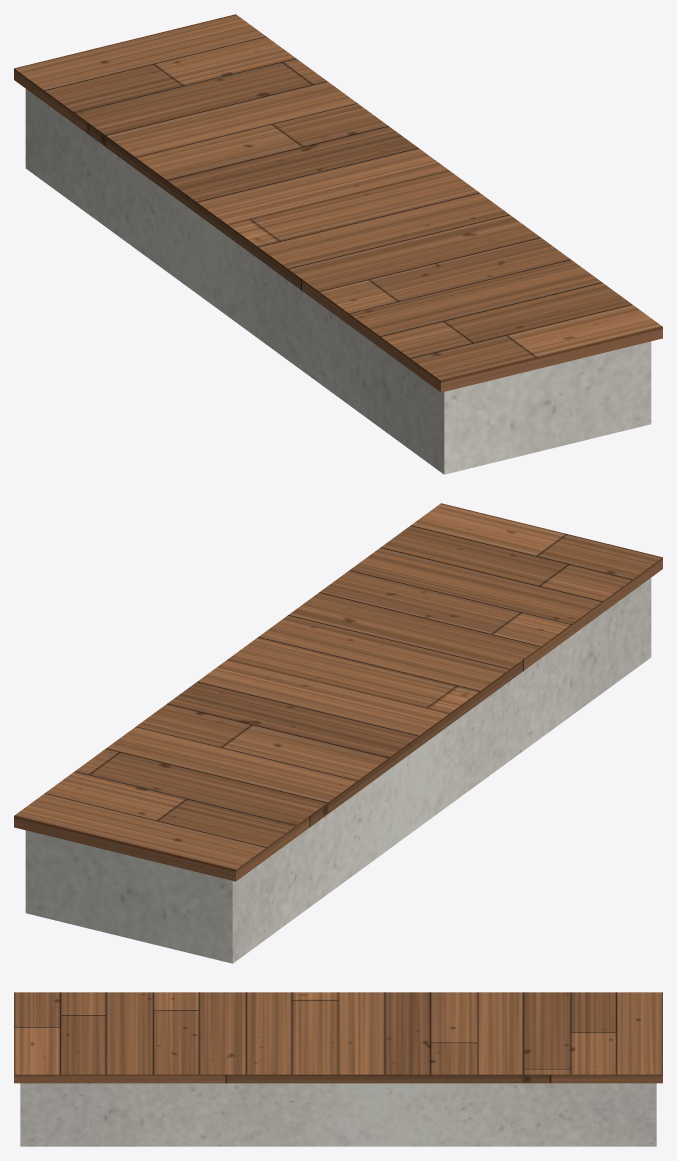
Rendered from floor_tile_hole_2.glb.
3 renders of one model, top to bottom at view 1: azimuth 30°, elevation 25°; view 2: azimuth 150°, elevation 25°; view 3: azimuth 270°, elevation 25°, orthographic. The views are drawn at different scales.
Visible parts, largest first — view 1: floor_tile_hole_2_floor, floor_tile_hole_2_plaster; view 2: floor_tile_hole_2_floor, floor_tile_hole_2_plaster; view 3: floor_tile_hole_2_floor, floor_tile_hole_2_plaster.
Boxes of the visible parts, x1=… form: floor_tile_hole_2_floor: x1=14, y1=14, x2=662, y2=392; floor_tile_hole_2_plaster: x1=25, y1=89, x2=651, y2=474; floor_tile_hole_2_floor: x1=14, y1=503, x2=662, y2=881; floor_tile_hole_2_plaster: x1=25, y1=578, x2=651, y2=963; floor_tile_hole_2_floor: x1=14, y1=992, x2=662, y2=1083; floor_tile_hole_2_plaster: x1=20, y1=1083, x2=656, y2=1146.
Bounding box in the file's own units: 0.6 × 0.255 × 2.
Materials: 2 (2 with a texture image).
